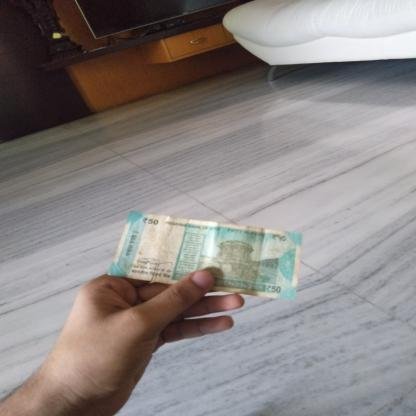New50Back: (116, 216, 296, 294)
